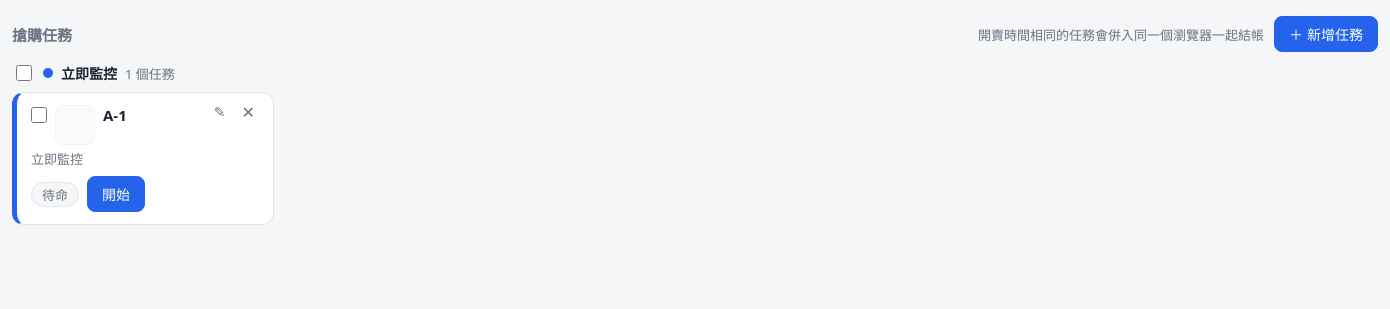
Test: ProductGrid › does not show the bulk action bar until something is selected
Check: the text "已選" is not shown
Click the checkbox named "選取任務".
click(39, 115)  # box [31,107,47,123]
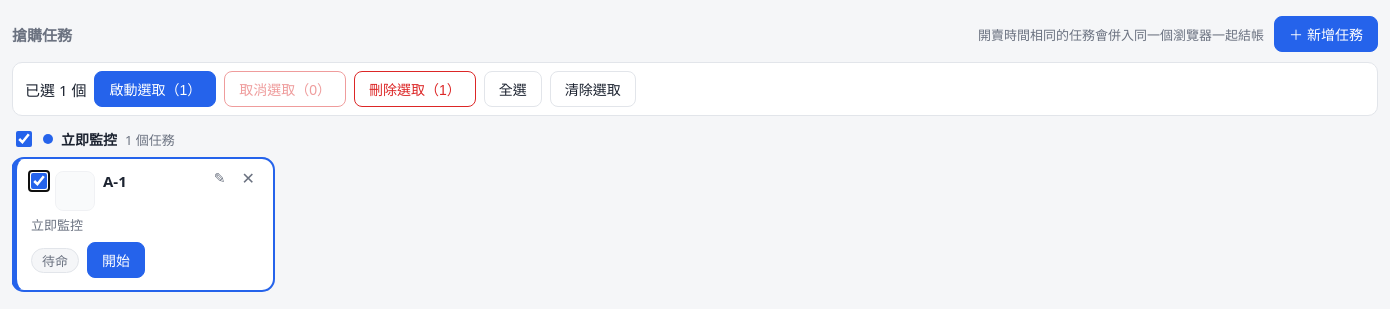
Check: the text "已選 1 個" is shown, box [25,78,86,100]
